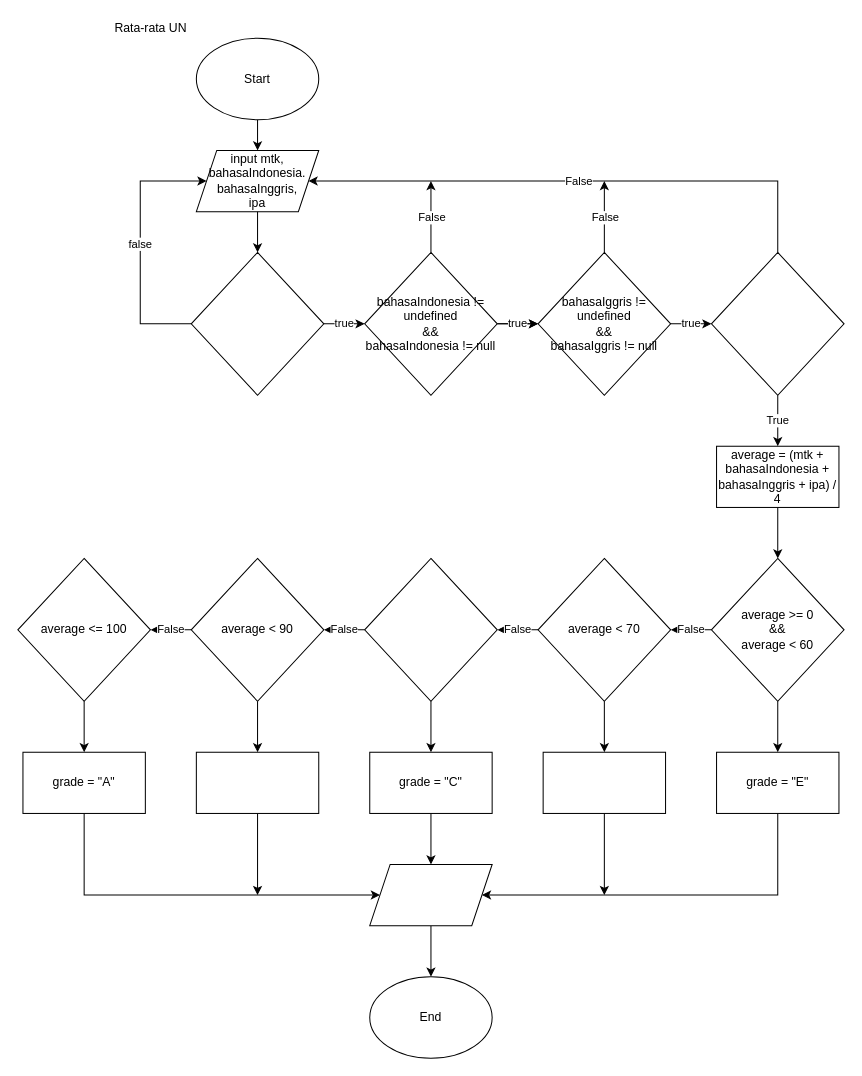
The diagram is 862 pixels wide and 1076 high, and some of its shapes have lost their labels. The centre of each missing label's shape, as x and y in pixels:
"average" "grade": point 430,894
average < 80: point 430,629
grade = "B": point 257,782
grade = "D": point 604,782
ipa != undefined && ipa != null: point 777,323
mtk != undefined && mtk != null: point 257,323
